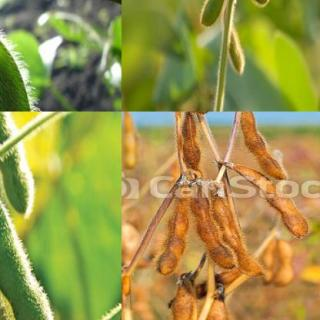soya: (0, 180, 55, 319), (229, 165, 312, 238), (207, 194, 267, 277), (0, 11, 48, 110), (0, 112, 36, 216), (190, 192, 234, 270), (239, 112, 286, 180), (156, 186, 190, 275), (162, 282, 196, 320), (181, 112, 200, 170), (199, 0, 231, 28), (229, 29, 243, 72), (203, 298, 230, 319)
